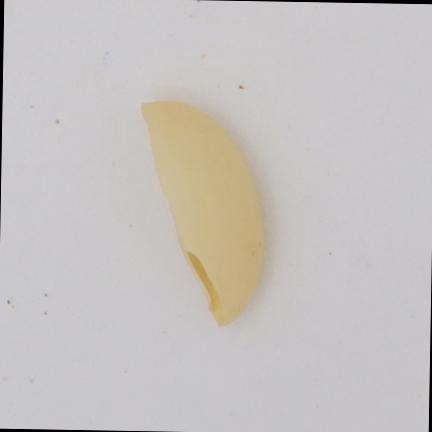parchment: (142, 100, 263, 324)
